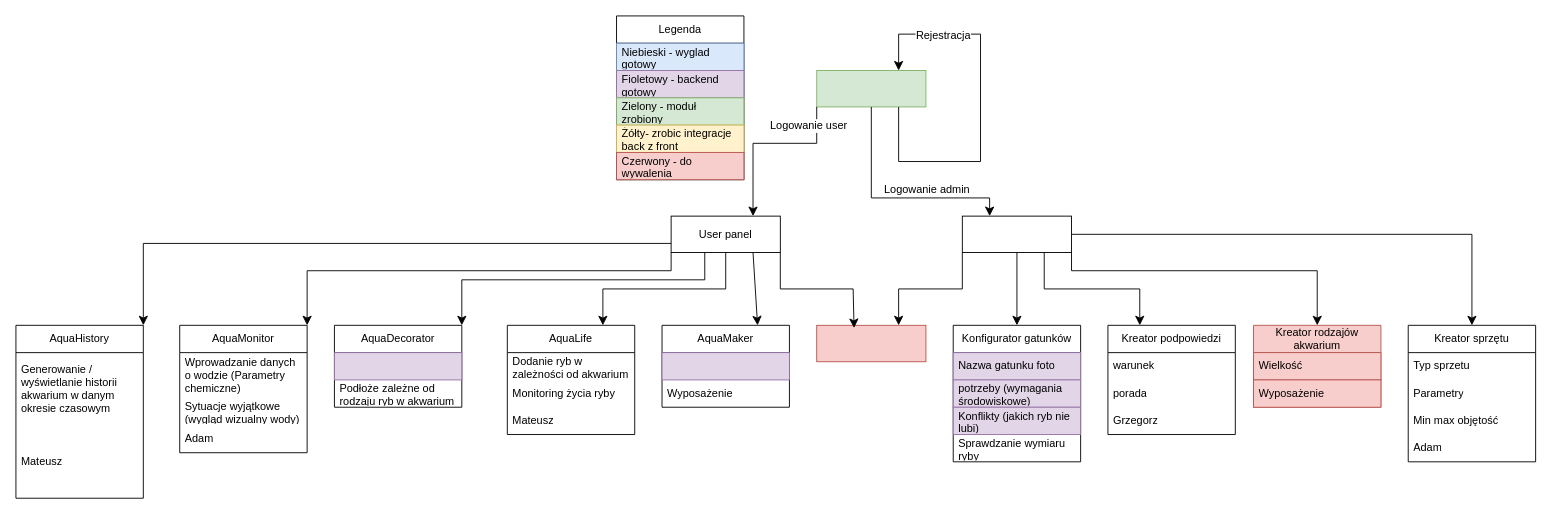
The diagram is 1552 pixels wide and 514 high, and some of its shapes have lost their labels. The centre of each missing label's shape, as x and y in pixels:
"Admin panel" goes at [1016,234].
"Dekoracje w akwarium" goes at [398,366].
"Edycja danych osobowych" goes at [871,343].
"Strona logowania rejestracji" goes at [871,88].
"wymiary" goes at [725,366].
